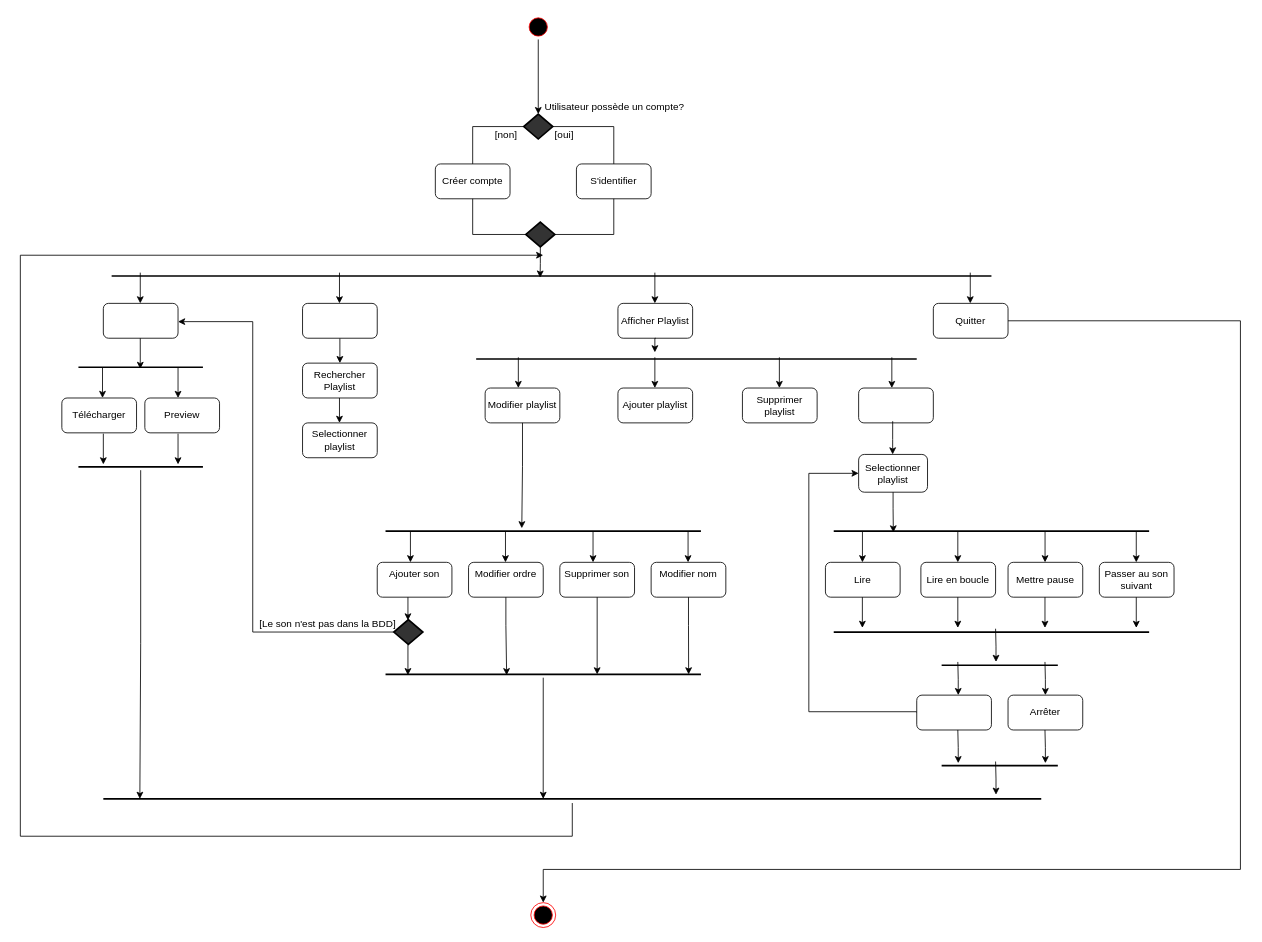
This 1262x942 diagram has some shape labels left out. The centre of each missing label's shape, as x and y in pixels:
"Copier playlist" belongs at point (339, 320).
"Jouer playlist" belongs at point (895, 405).
"Rechercher son" belongs at point (140, 320).
"Superposer son" belongs at point (953, 712).
